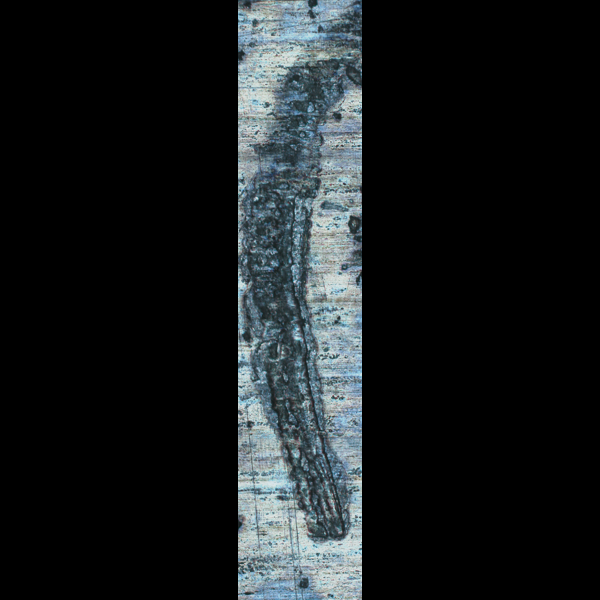d: (238, 11, 357, 549)
